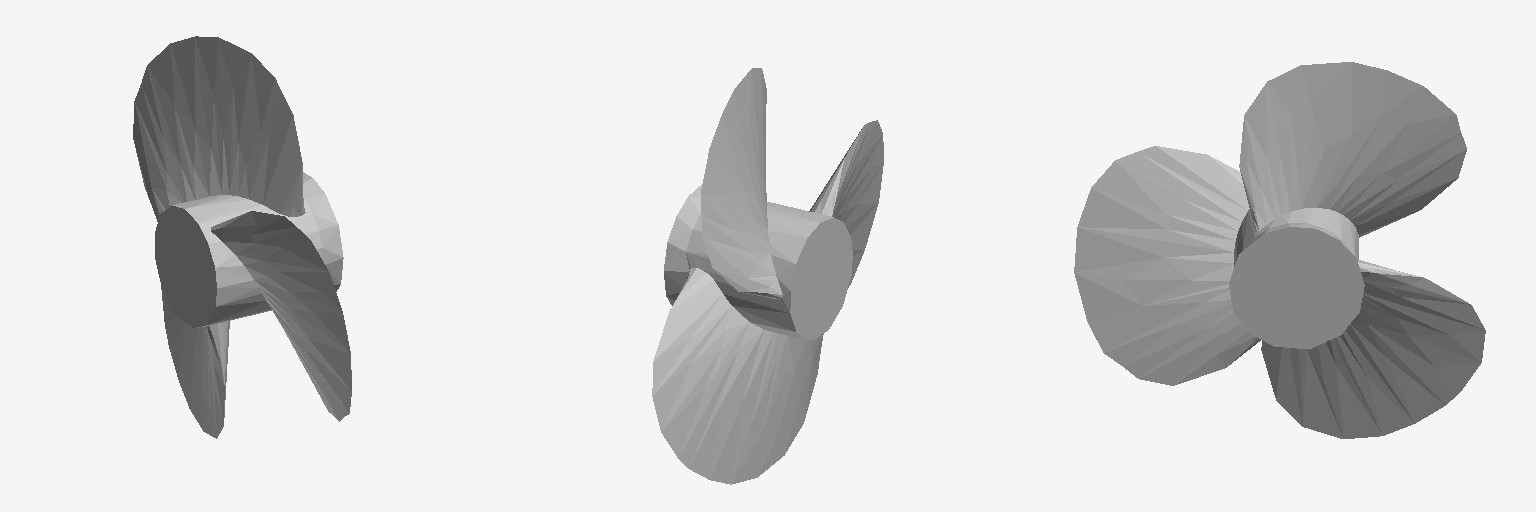
Rendered from zest_propeller_R_ct_mass.obj.
3 renders of one model, left to right at view 1: azimuth 30°, elevation 25°; view 2: azimuth 150°, elevation 25°; view 3: azimuth 270°, elevation 25°, orthographic.
Parts seen in each view (by area): view 1: 40HP_BOAT_MOTOR.001; view 2: 40HP_BOAT_MOTOR.001; view 3: 40HP_BOAT_MOTOR.001.
Boxes of the visible parts, <box> form: 40HP_BOAT_MOTOR.001: <box>133,36,351,438</box>; 40HP_BOAT_MOTOR.001: <box>652,68,883,484</box>; 40HP_BOAT_MOTOR.001: <box>1074,62,1485,438</box>.
Bounding box in the file's own units: 0.1098 × 0.3279 × 0.316.